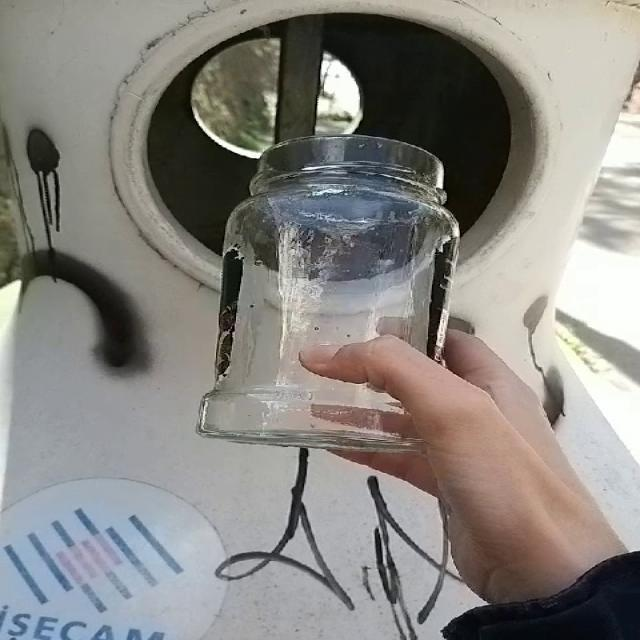Glass: (197, 134, 460, 451)
